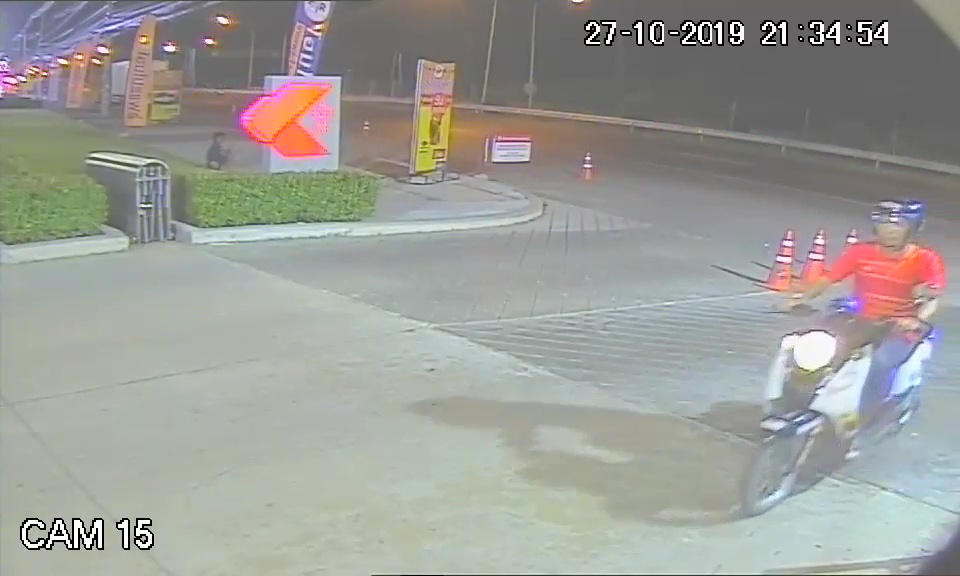motorcycle: (732, 296, 934, 518)
